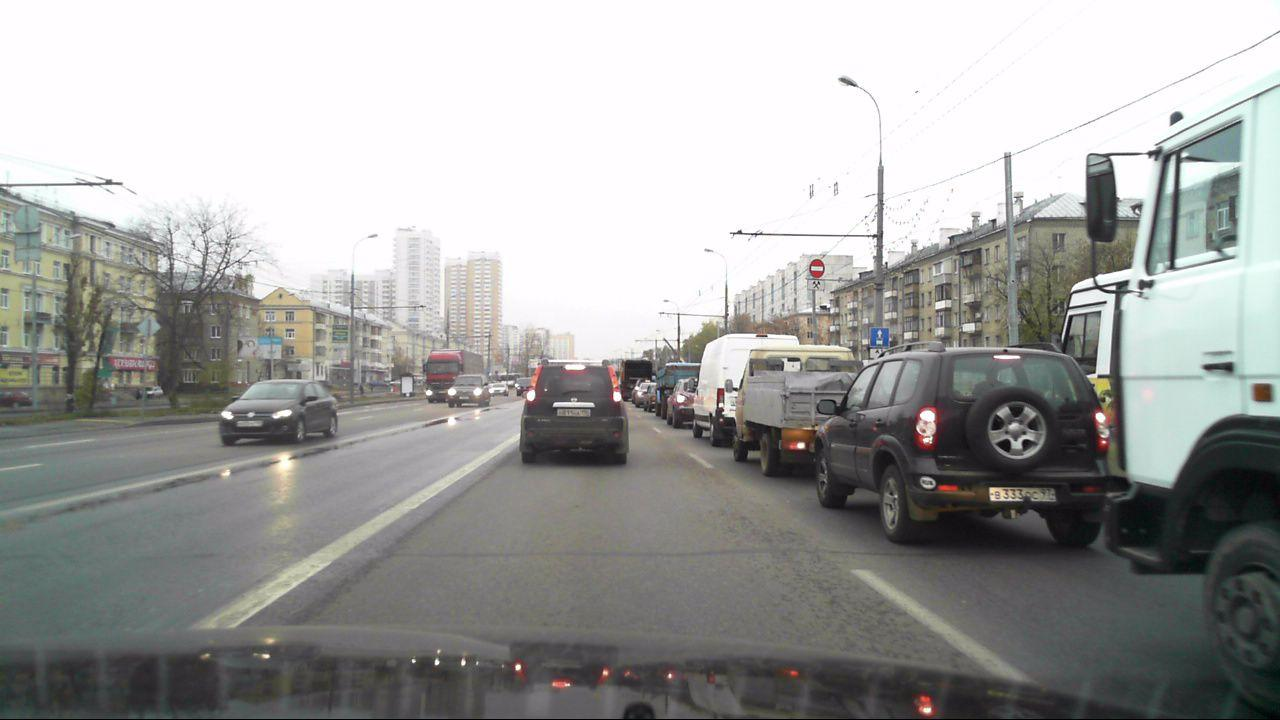road_sign: (870, 327, 889, 347), (809, 258, 825, 278)
